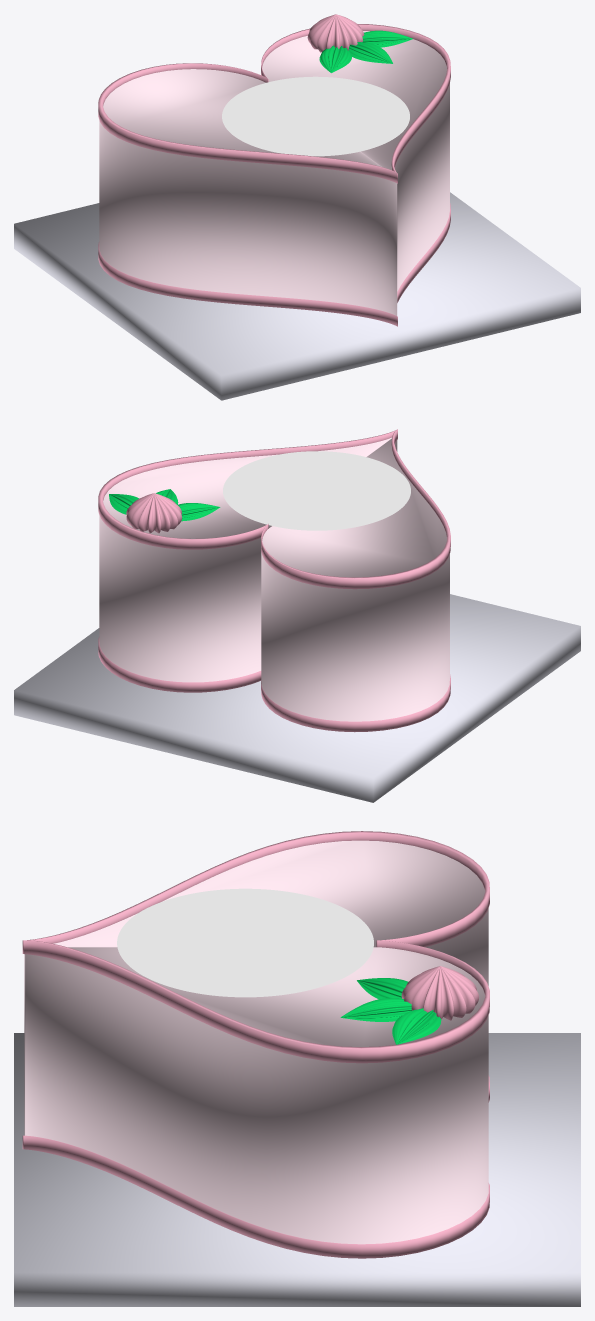
The model's file is heart_strawberry_image.glb.
3 renders of one model, top to bottom at view 1: azimuth 30°, elevation 25°; view 2: azimuth 150°, elevation 25°; view 3: azimuth 270°, elevation 25°, orthographic. The views are drawn at different scales.
Parts seen in each view (by area): view 1: HeartCake, IcingStand, CakeTopImage, IcingRing, IcingRing.001, leaf.001, design1; view 2: HeartCake, IcingStand, CakeTopImage, IcingRing, IcingRing.001, design1, leaf.001; view 3: HeartCake, IcingStand, CakeTopImage, IcingRing, IcingRing.001, leaf.001, design1.
Boxes of the visible parts, x1,y1,x2,y2 form: HeartCake: (99,31,449,315); IcingStand: (14,192,580,400); CakeTopImage: (222,76,409,156); IcingRing: (98,24,450,183); IcingRing.001: (98,203,450,326); leaf.001: (319,30,412,72); design1: (307,14,364,52); HeartCake: (99,437,449,721); IcingStand: (14,594,580,802); CakeTopImage: (223,451,410,530); IcingRing: (98,429,450,589); IcingRing.001: (98,637,450,732); design1: (126,493,182,533); leaf.001: (109,489,220,521); HeartCake: (24,840,488,1244); IcingStand: (14,1033,580,1306); CakeTopImage: (117,888,373,997); IcingRing: (22,831,489,1063); IcingRing.001: (22,1075,489,1258); leaf.001: (340,978,441,1044); design1: (401,966,478,1020).
Size of the model in its own units: 3 by 1.64 by 3.
